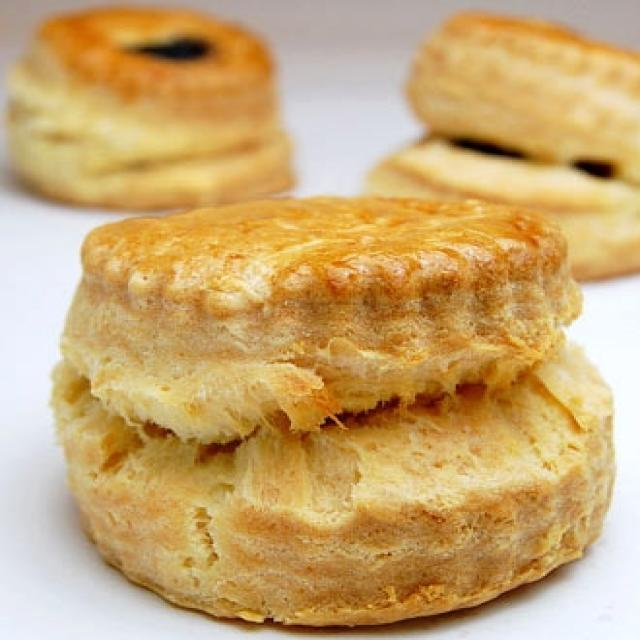面包点心: (29, 12, 621, 618)
